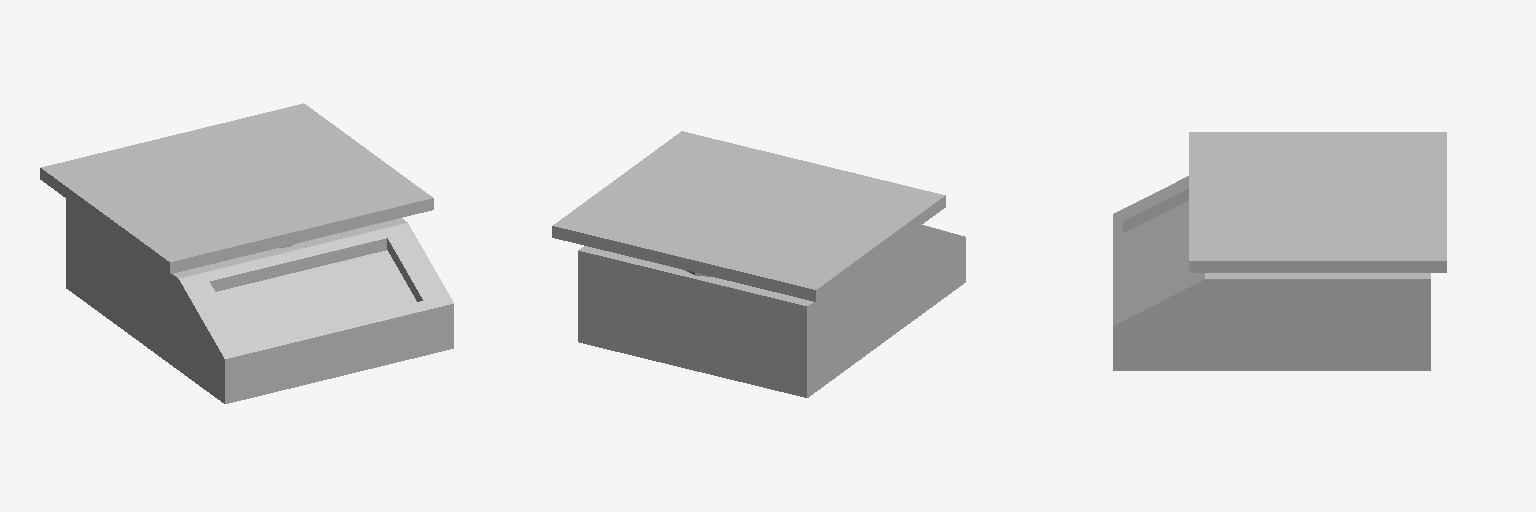
File: Scale.obj
3 renders of one model, left to right at view 1: azimuth 30°, elevation 25°; view 2: azimuth 150°, elevation 25°; view 3: azimuth 270°, elevation 25°, orthographic.
Parts seen in each view (by area): view 1: Cube; view 2: Cube; view 3: Cube.
Boxes of the visible parts, <box> form: Cube: <box>40,103,453,403</box>; Cube: <box>552,131,965,397</box>; Cube: <box>1113,132,1446,370</box>.
Size of the model in its own units: 2.3 by 0.9876 by 2.53.